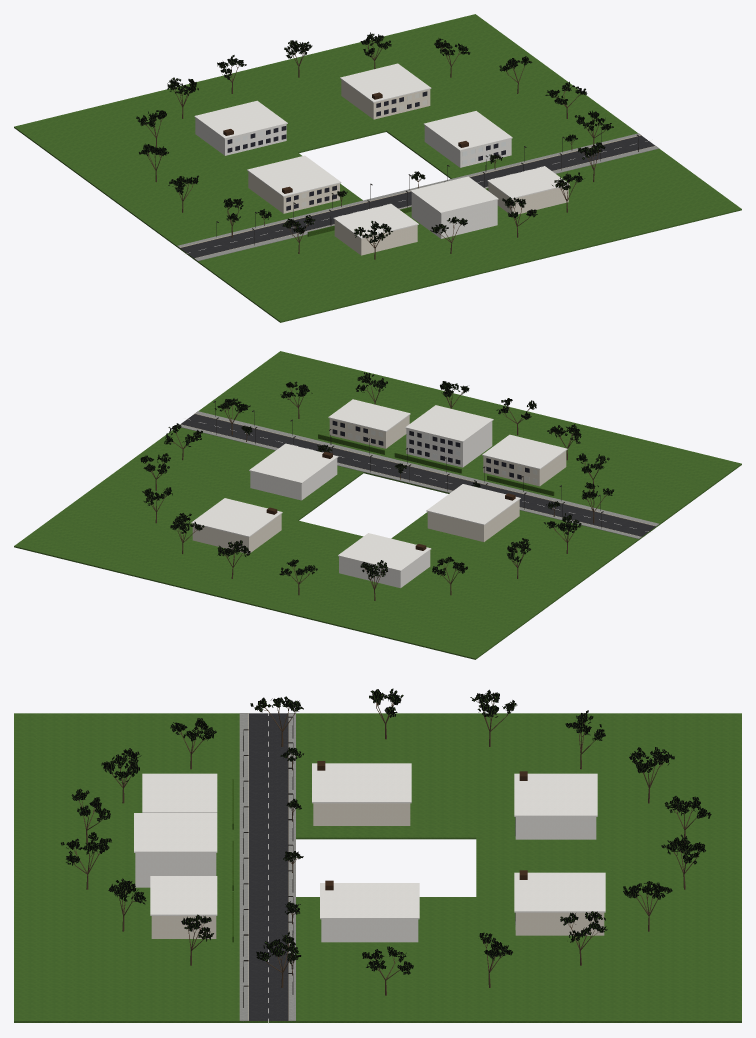
File: LuxuryVilla_Surroundings.fbx
The picture shows the model from 3 angles, top to bottom: view 1: azimuth 30°, elevation 25°; view 2: azimuth 150°, elevation 25°; view 3: azimuth 270°, elevation 25°; orthographic projection. The views are drawn at different scales.
Parts seen in each view (by area): view 1: Neighbourhood, House_S, House_West, House_NW, House_NE, House_East, House_SW, House_SE; view 2: Neighbourhood, House_S, House_West, House_East, House_NE, House_NW, House_SW, House_SE; view 3: Neighbourhood, House_West, House_East, House_NW, House_NE, House_S, House_SE, House_SW, FarTree_14, FarTree_12, FarTree_6, FarTree_17 (+14 smaller).
Part boxes in pixels (<box>): Neighbourhood: <box>14,14,741,322</box>; House_S: <box>410,176,498,238</box>; House_West: <box>247,155,341,213</box>; House_NW: <box>194,100,287,155</box>; House_NE: <box>340,63,431,119</box>; House_East: <box>423,111,512,167</box>; House_SW: <box>333,204,418,255</box>; House_SE: <box>487,166,569,214</box>; Neighbourhood: <box>14,351,741,659</box>; House_S: <box>405,405,493,467</box>; House_West: <box>426,484,520,541</box>; House_East: <box>249,443,338,500</box>; House_NE: <box>191,498,282,553</box>; House_NW: <box>338,533,431,588</box>; House_SW: <box>482,434,567,486</box>; House_SE: <box>328,399,410,448</box>; Neighbourhood: <box>14,712,741,1023</box>; House_West: <box>312,761,411,825</box>; House_East: <box>320,880,419,942</box>; House_NW: <box>514,771,597,839</box>; House_NE: <box>514,870,605,935</box>; House_S: <box>134,813,217,887</box>; House_SE: <box>150,876,217,938</box>; House_SW: <box>142,773,217,812</box>; FarTree_14: <box>61,832,111,889</box>; FarTree_12: <box>101,748,141,803</box>; FarTree_6: <box>629,747,674,803</box>; FarTree_17: <box>256,931,301,987</box>.
Bounding box in the file's own units: 183 × 15.01 × 180.
14 materials, 11 textured.
